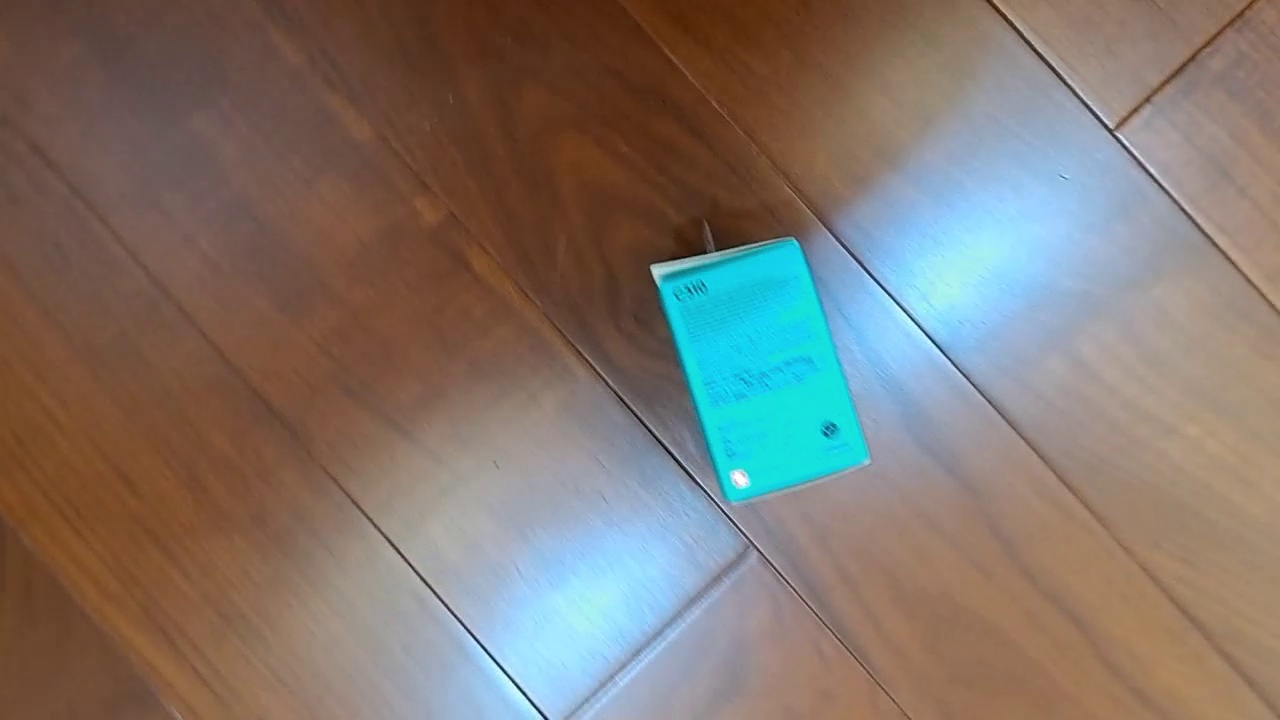webcam: (649, 234, 873, 509)
